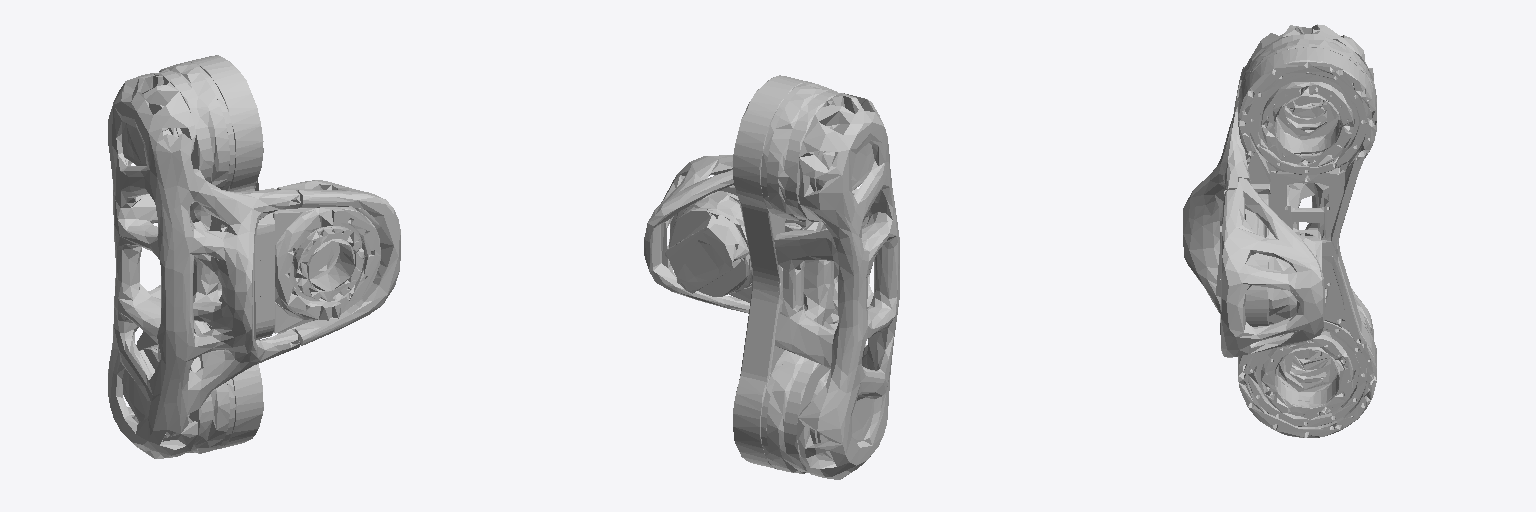
3 views of the same model, side by side, from view 1: azimuth 30°, elevation 25°; view 2: azimuth 150°, elevation 25°; view 3: azimuth 270°, elevation 25° (orthographic).
Visible parts, largest first — view 1: base_link; view 2: base_link; view 3: base_link.
Part boxes in pixels (x1,y1,x2,y2): base_link: (108,55,400,458); base_link: (644,75,899,479); base_link: (1183,24,1376,437).
Size of the model in its own units: 0.2076 by 0.315 by 0.1468.